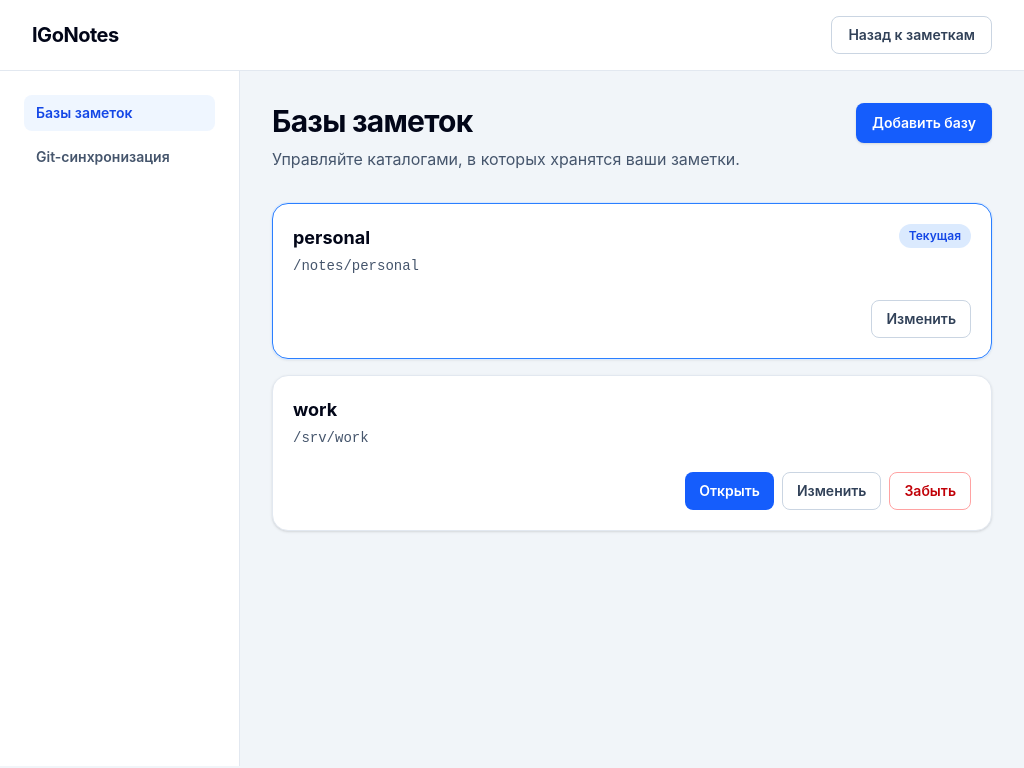
Test case: SettingsWorkspace › edits the active base by its original name and remains in settings
Step 1. Click the button "Изменить" below "Текущая" → (921, 319), box [872, 300, 971, 338]
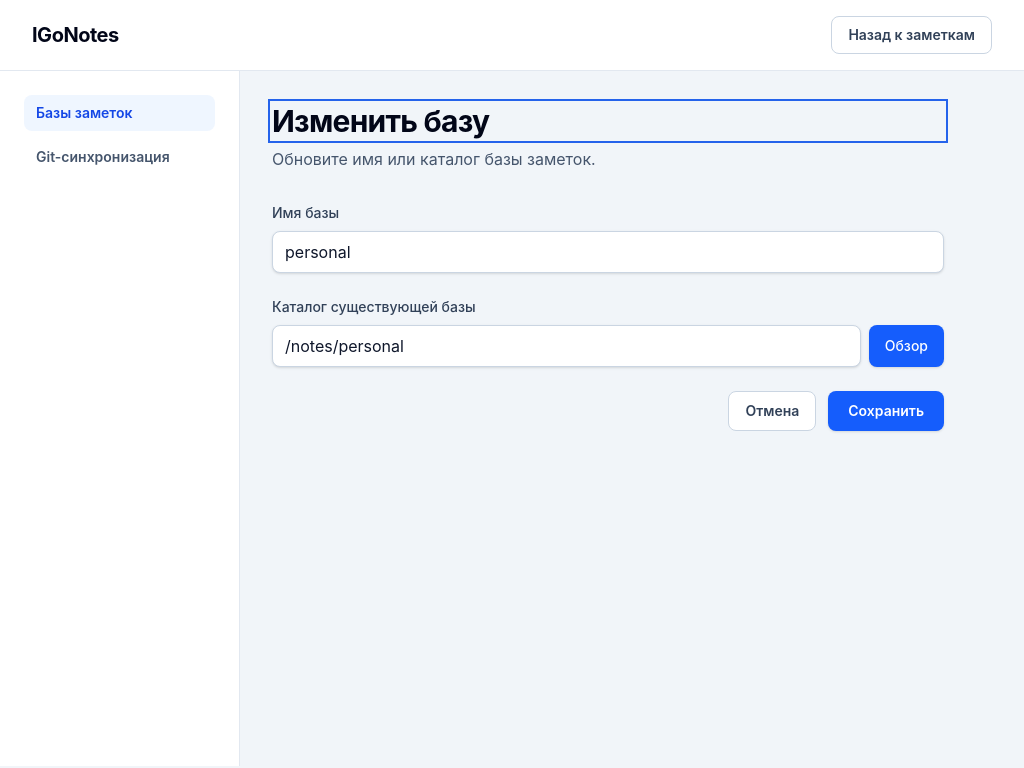
Expected: the field labelled "Имя базы" holds "personal"
Expected: the field labelled "Каталог существующей базы" holds "/notes/personal", [272, 325, 861, 367]
Step 2. Replace the text in the field labelled "Имя базы" with "renamed" → (608, 252), box [272, 231, 944, 273]
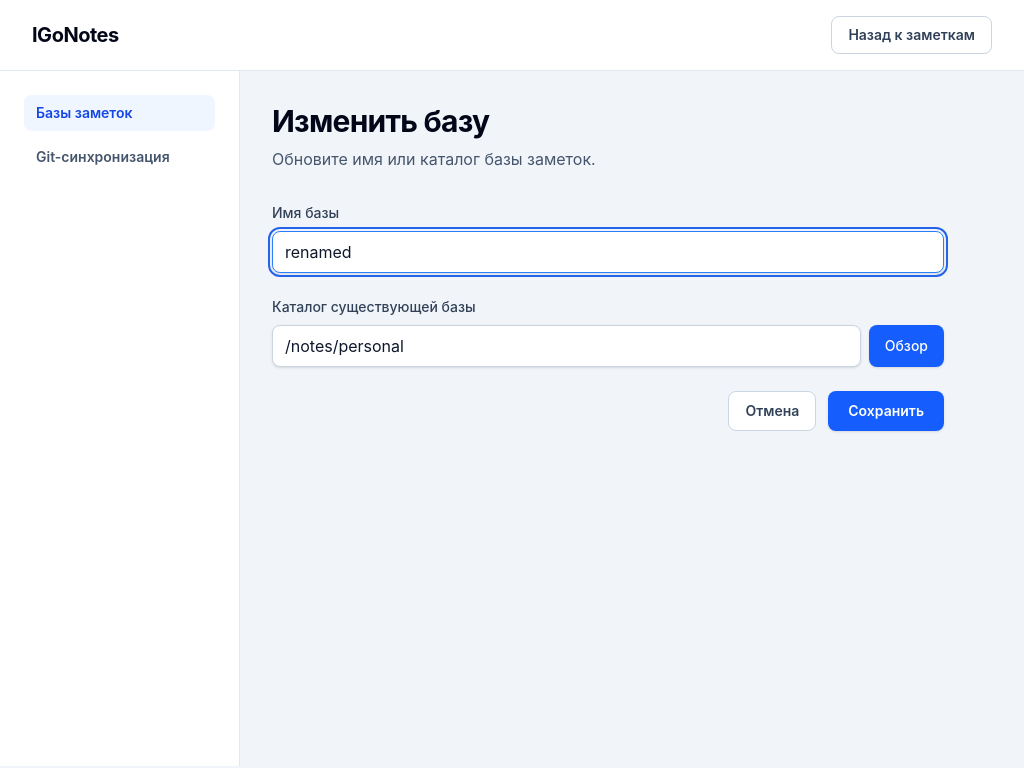
Step 3. Replace the text in the field labelled "Каталог существующей базы" with "/other" → (566, 346), box [272, 325, 861, 367]
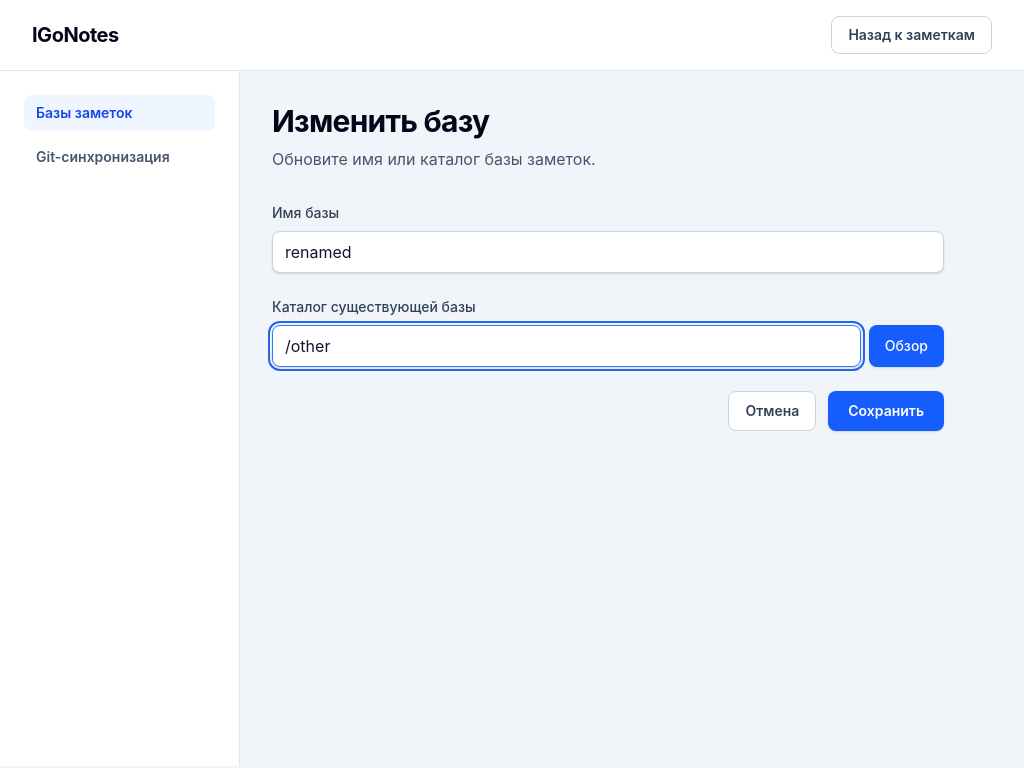
Step 4. Click the button "Сохранить" → (886, 411), box [828, 391, 944, 431]
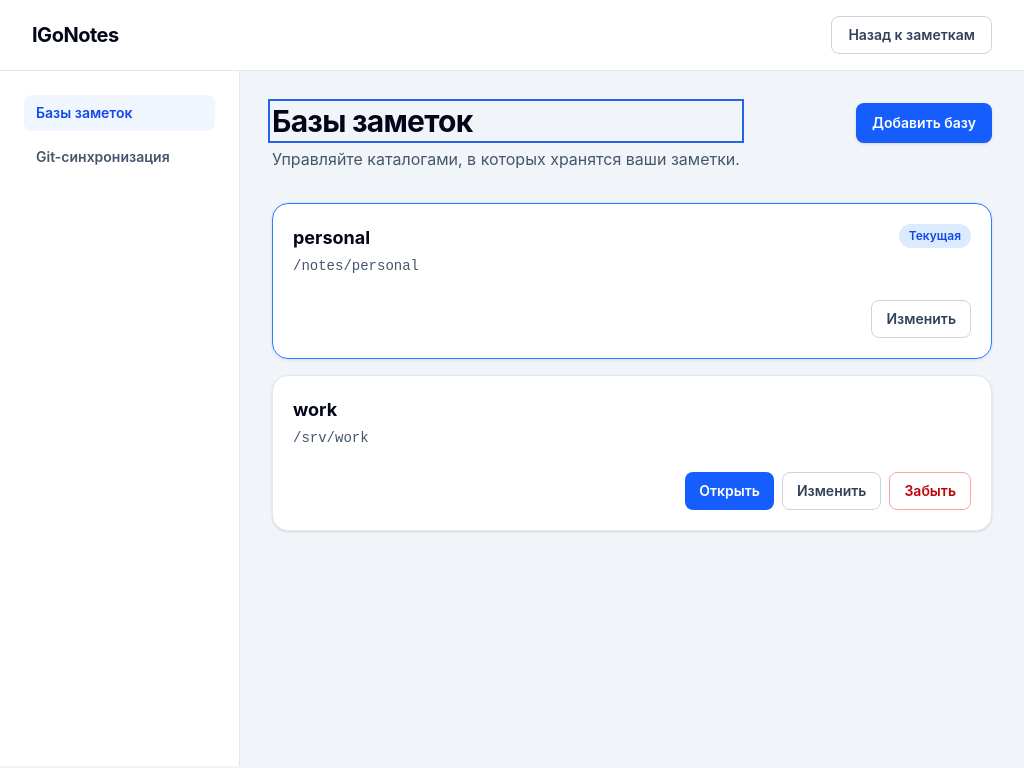
Expected: the button "Назад к заметкам" is shown, [831, 16, 992, 54]
Expected: the heading "Базы заметок" is shown, [272, 103, 472, 139]
